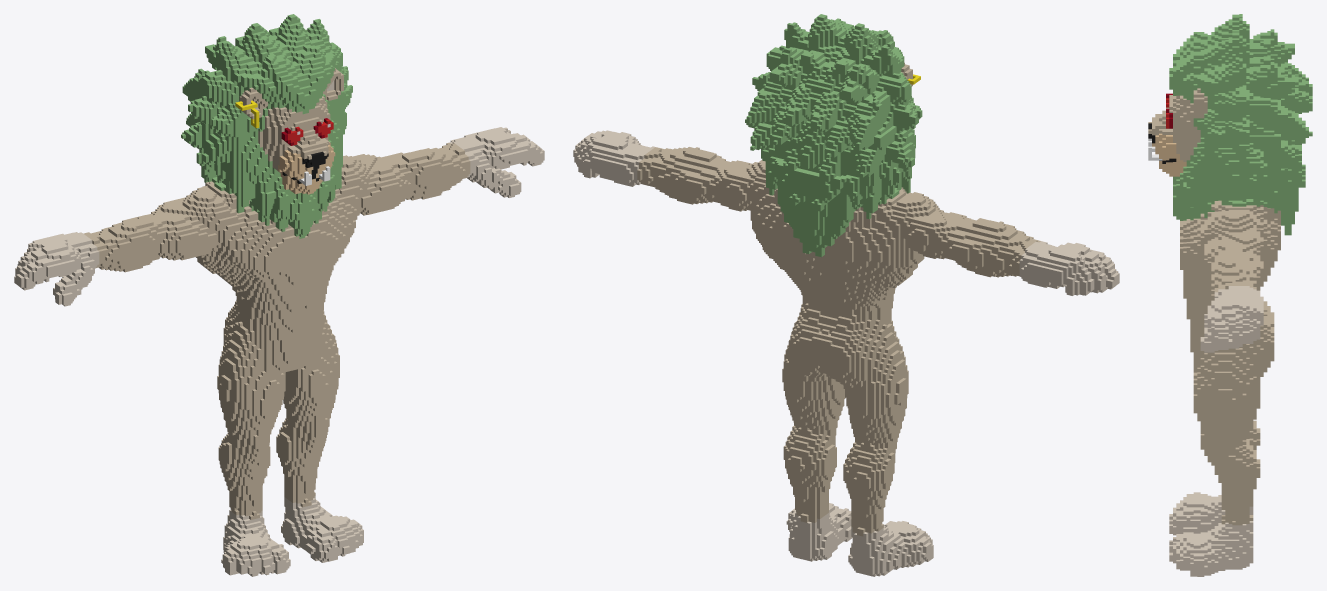
The model's file is 1088-BEC3G_Iz.glb.
The picture shows the model from 3 angles, left to right: view 1: azimuth 30°, elevation 25°; view 2: azimuth 150°, elevation 25°; view 3: azimuth 270°, elevation 25°; orthographic projection. The views are drawn at different scales.
Visible parts, largest first — view 1: ork; view 2: ork; view 3: ork.
Boxes of the visible parts, <box> form: ork: <box>14,14,544,576</box>; ork: <box>573,14,1119,576</box>; ork: <box>1148,14,1312,576</box>.
Size of the model in its own units: 17.2 by 16.5 by 4.7.
5 materials, 5 textured.
